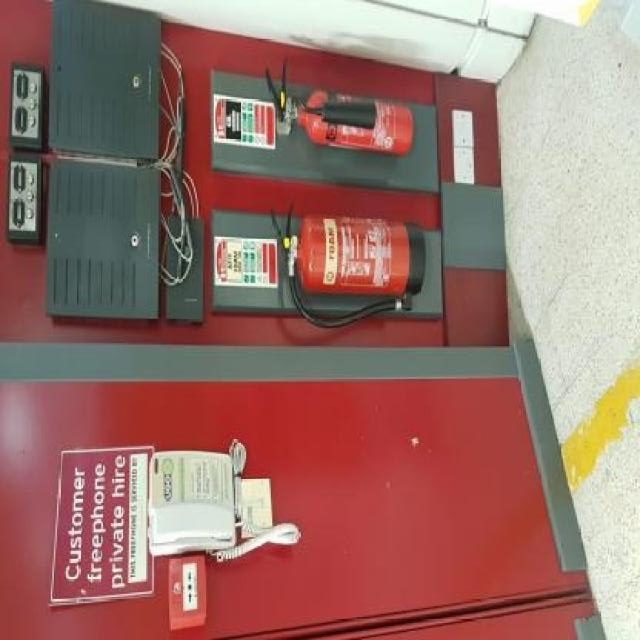fire extinguisher: (280, 213, 428, 327), (270, 84, 415, 153)
